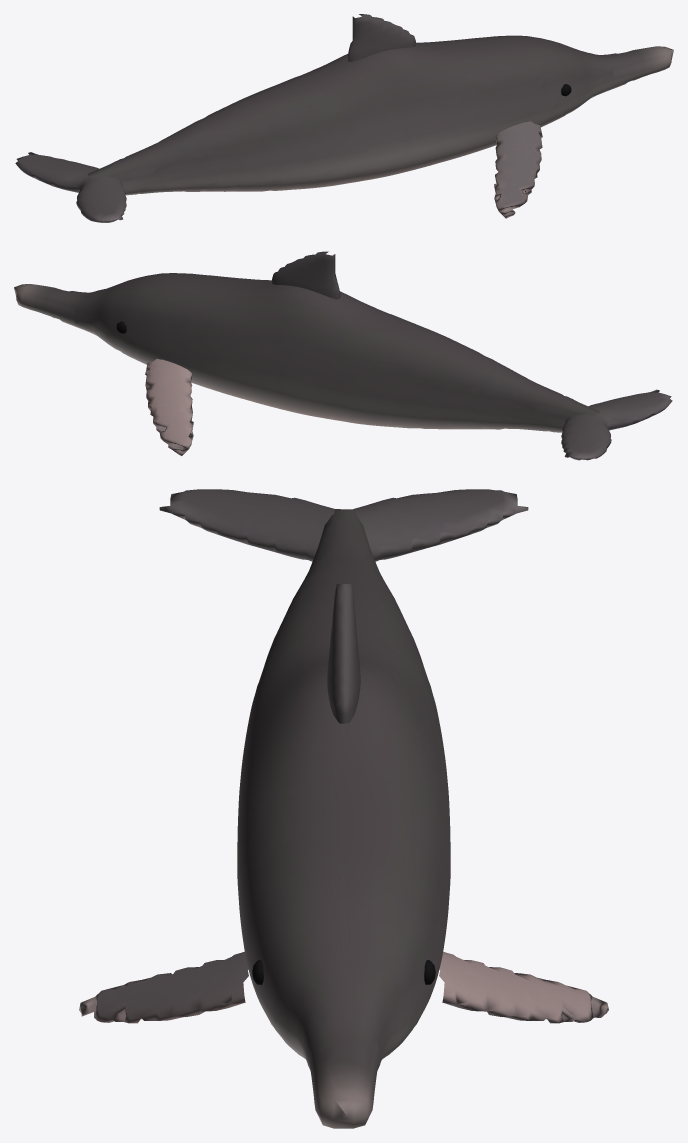
Rendered from dolphin.glb.
3 views of the same model, one above another, from view 1: azimuth 30°, elevation 25°; view 2: azimuth 150°, elevation 25°; view 3: azimuth 270°, elevation 25° (orthographic). The views are drawn at different scales.
Parts seen in each view (by area): view 1: Body, Fluke, Flipper_L, DorsalFin; view 2: Body, Fluke, Flipper_R, DorsalFin; view 3: Body, Fluke, Flipper_R, Flipper_L, DorsalFin.
Part boxes in pixels (bbox=[...]): Body: bbox=[87, 35, 673, 195]; Fluke: bbox=[15, 152, 126, 222]; Flipper_L: bbox=[494, 121, 542, 218]; DorsalFin: bbox=[348, 14, 415, 61]; Body: bbox=[14, 273, 599, 432]; Fluke: bbox=[561, 389, 672, 460]; Flipper_R: bbox=[145, 358, 193, 455]; DorsalFin: bbox=[272, 251, 340, 299]; Body: bbox=[237, 509, 450, 1128]; Fluke: bbox=[159, 489, 528, 561]; Flipper_R: bbox=[439, 952, 608, 1023]; Flipper_L: bbox=[79, 952, 248, 1023]; DorsalFin: bbox=[327, 584, 360, 723].
Size of the model in its own units: 2.86 by 0.7676 by 1.06.
Materials: 2 (1 with a texture image).
